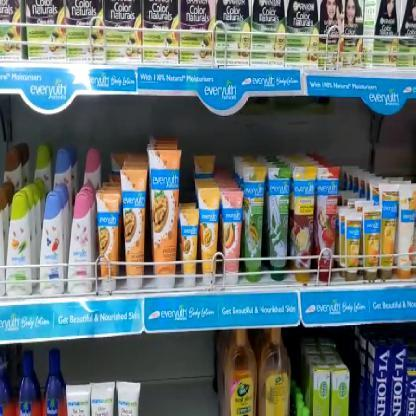Everyuth Naturals Body Lotion Rejuvenating Flora 200ml: (68, 192, 92, 294)
Everyuth Naturals Body Lotion Soothing Citrus 200ml: (8, 191, 30, 292)
Everyuth Naturals Body Lotion Sun Care Berries SPF 15 200ml: (40, 190, 65, 293)
